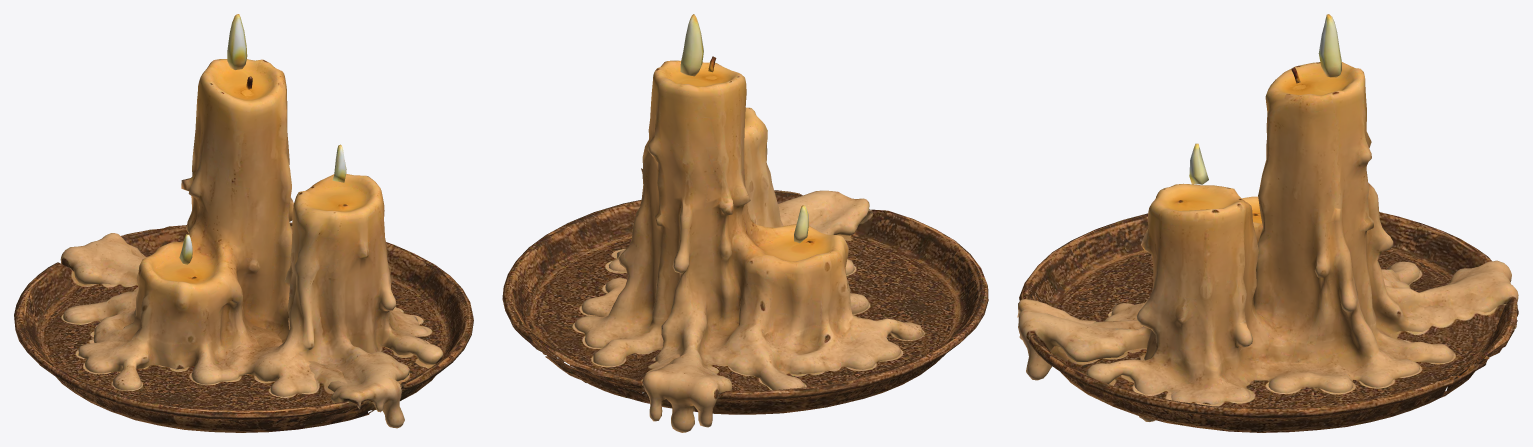
File: candles.glb
3 renders of one model, left to right at view 1: azimuth 30°, elevation 25°; view 2: azimuth 150°, elevation 25°; view 3: azimuth 270°, elevation 25°, orthographic. The views are drawn at different scales.
Visible parts, largest first — view 1: tripo_node_fd1f7d9f-6fce-48d0-9c10-72d5255b8df1; view 2: tripo_node_fd1f7d9f-6fce-48d0-9c10-72d5255b8df1; view 3: tripo_node_fd1f7d9f-6fce-48d0-9c10-72d5255b8df1.
Part boxes in pixels (box(x1,y1,x2,y2)): tripo_node_fd1f7d9f-6fce-48d0-9c10-72d5255b8df1: box(14, 14, 473, 432); tripo_node_fd1f7d9f-6fce-48d0-9c10-72d5255b8df1: box(502, 14, 988, 432); tripo_node_fd1f7d9f-6fce-48d0-9c10-72d5255b8df1: box(1017, 14, 1518, 432).
Bounding box in the file's own units: 0.995 × 0.7797 × 0.9961.
Materials: 1 (1 with a texture image).
